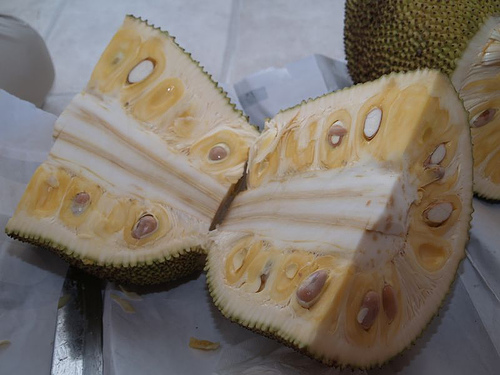jackfruit: (5, 12, 473, 371), (341, 0, 498, 90), (456, 24, 499, 204), (2, 11, 57, 109)
